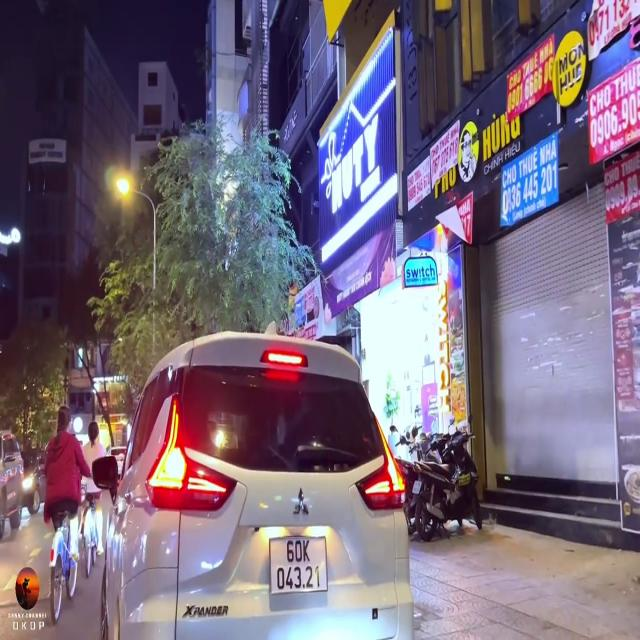bien_trang: (265, 536, 327, 594)
